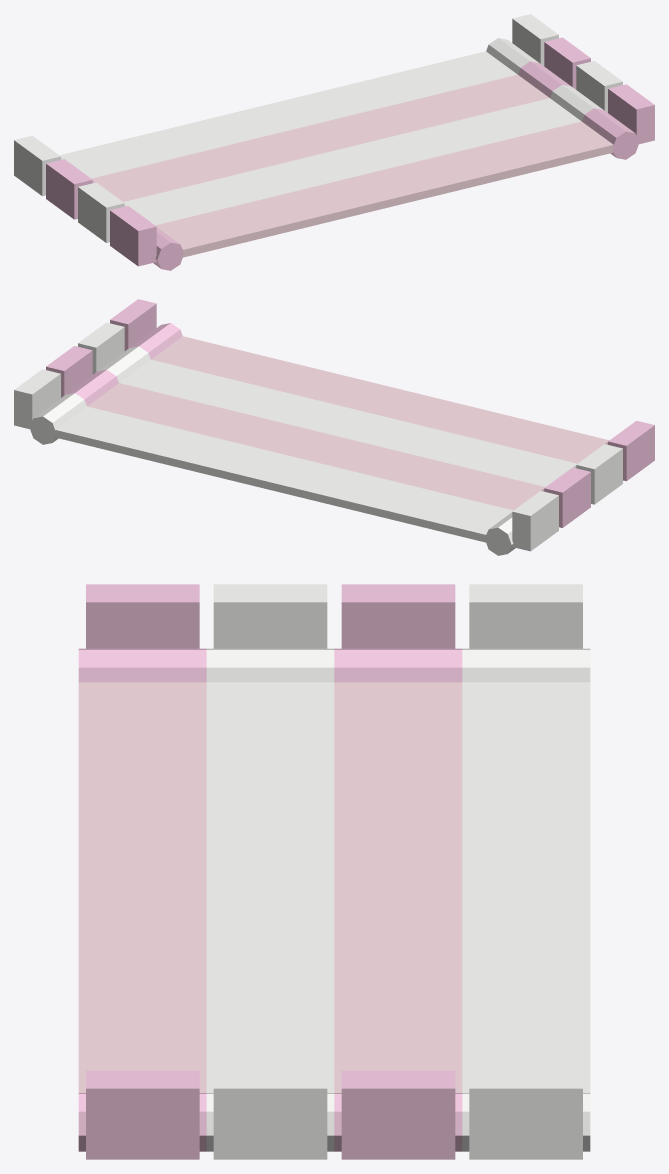
File: draha_rovna_kratka.glb
3 renders of one model, top to bottom at view 1: azimuth 30°, elevation 25°; view 2: azimuth 150°, elevation 25°; view 3: azimuth 270°, elevation 25°, orthographic. The views are drawn at different scales.
Parts seen in each view (by area): view 1: DrahaRovnaKratka_white, DrahaRovnaKratka_pink, DrahaRovnaKratka_lol; view 2: DrahaRovnaKratka_white, DrahaRovnaKratka_pink, DrahaRovnaKratka_lol; view 3: DrahaRovnaKratka_white, DrahaRovnaKratka_pink, DrahaRovnaKratka_lol.
Part boxes in pixels (x1,y1,x2,y2): DrahaRovnaKratka_white: [14, 14, 622, 242]; DrahaRovnaKratka_pink: [91, 74, 613, 257]; DrahaRovnaKratka_lol: [46, 37, 654, 270]; DrahaRovnaKratka_white: [14, 322, 622, 555]; DrahaRovnaKratka_pink: [87, 336, 608, 510]; DrahaRovnaKratka_lol: [46, 299, 654, 527]; DrahaRovnaKratka_white: [206, 584, 590, 1159]; DrahaRovnaKratka_pink: [78, 682, 462, 1092]; DrahaRovnaKratka_lol: [78, 584, 462, 1159].
Size of the model in its own units: 8.4 by 0.715 by 3.6.
